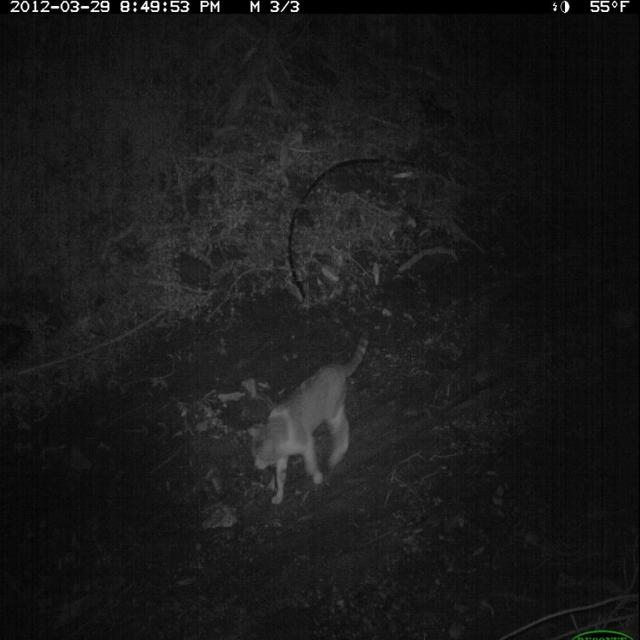cat: (245, 315, 375, 511)
